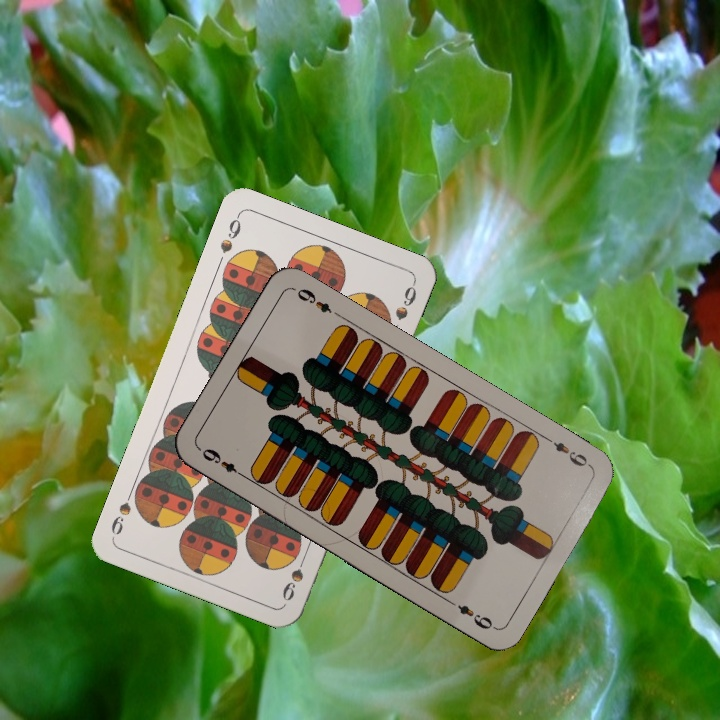E9: (541, 432, 594, 470), (197, 444, 249, 481)
S9: (278, 548, 310, 604), (216, 211, 244, 256)
